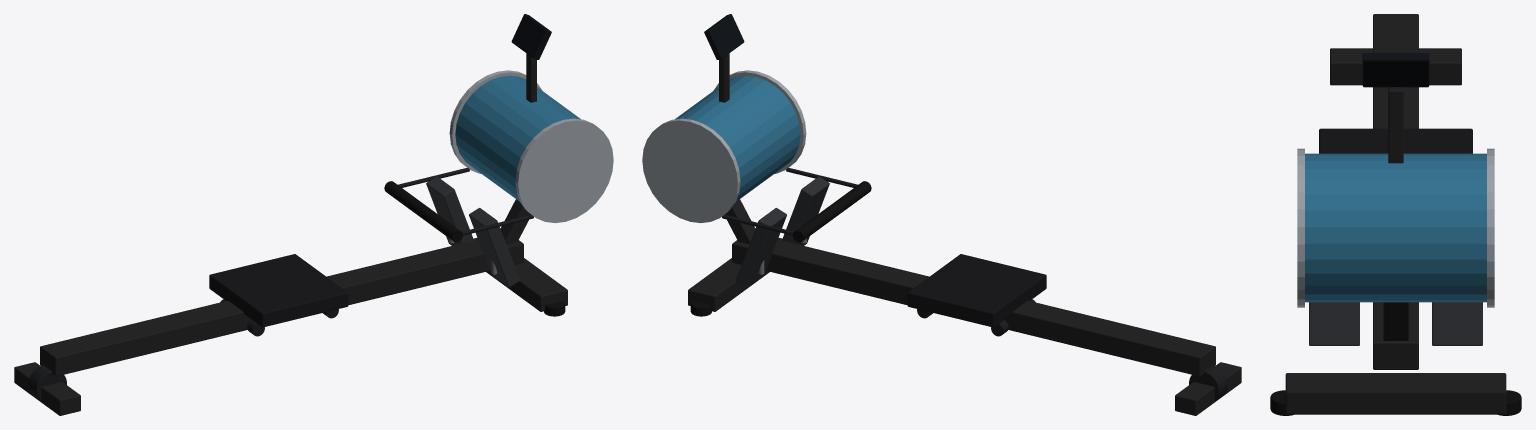
The model's file is rower_budget.glb.
3 views of the same model, side by side, from view 1: azimuth 30°, elevation 25°; view 2: azimuth 150°, elevation 25°; view 3: azimuth 270°, elevation 25° (orthographic). The views are drawn at different scales.
Visible parts, largest first — view 1: Cube, Cylinder.005, Cylinder.003, Cube.006, Cube.005, Cube.001, Cube.002, Cube.004, Cylinder.014, Cube.008, Cylinder.004, Cube.003 (+1 smaller); view 2: Cube, Cylinder.004, Cylinder.003, Cube.006, Cube.004, Cube.001, Cube.002, Cube.005, Cylinder.014, Cube.008, Cylinder.005, Cube.003 (+1 smaller); view 3: Cylinder.003, Cube.001, Cube, Cube.006, Cube.002, Cube.008, Cube.004, Cube.005, Cylinder.004, Cylinder.005, Cube.007, Cube.003 (+2 smaller).
Boxes of the visible parts, x1,y1,x2,y2 form: Cube: (40, 239, 523, 376); Cylinder.005: (515, 118, 613, 223); Cylinder.003: (455, 75, 580, 201); Cube.006: (209, 254, 348, 327); Cube.005: (469, 208, 519, 287); Cube.001: (473, 238, 567, 311); Cube.002: (14, 362, 80, 415); Cube.004: (426, 176, 473, 245); Cylinder.014: (384, 181, 462, 242); Cube.008: (511, 14, 551, 59); Cylinder.004: (449, 70, 542, 173); Cube.003: (500, 199, 530, 244); Cube: (732, 239, 1215, 376); Cylinder.004: (642, 118, 740, 223); Cylinder.003: (675, 75, 800, 201); Cube.006: (907, 254, 1046, 327); Cube.004: (736, 208, 786, 287); Cube.001: (688, 238, 782, 311); Cube.002: (1175, 362, 1241, 415); Cube.005: (782, 176, 829, 245); Cylinder.014: (793, 181, 871, 242); Cube.008: (704, 14, 744, 59); Cylinder.005: (713, 70, 806, 173); Cube.003: (725, 199, 755, 244); Cylinder.003: (1305, 153, 1486, 302); Cube.001: (1285, 373, 1506, 414); Cube: (1373, 14, 1418, 369); Cube.006: (1319, 128, 1472, 153); Cube.002: (1330, 48, 1461, 85); Cube.008: (1362, 53, 1429, 87); Cube.004: (1432, 302, 1482, 345); Cube.005: (1309, 302, 1359, 345); Cylinder.004: (1487, 148, 1494, 307); Cylinder.005: (1297, 148, 1304, 307); Cube.007: (1388, 87, 1403, 163); Cube.003: (1383, 302, 1408, 340).
Size of the model in its own units: 1.77 by 0.8031 by 0.49.
